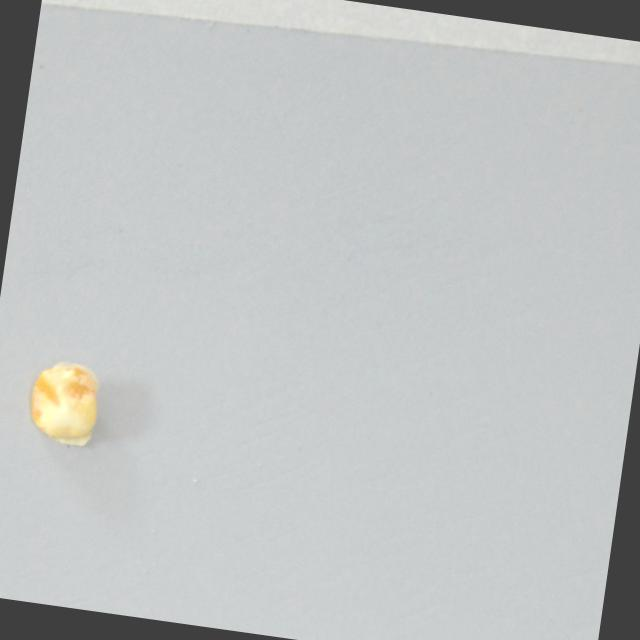pelicula: (24, 356, 110, 451)
